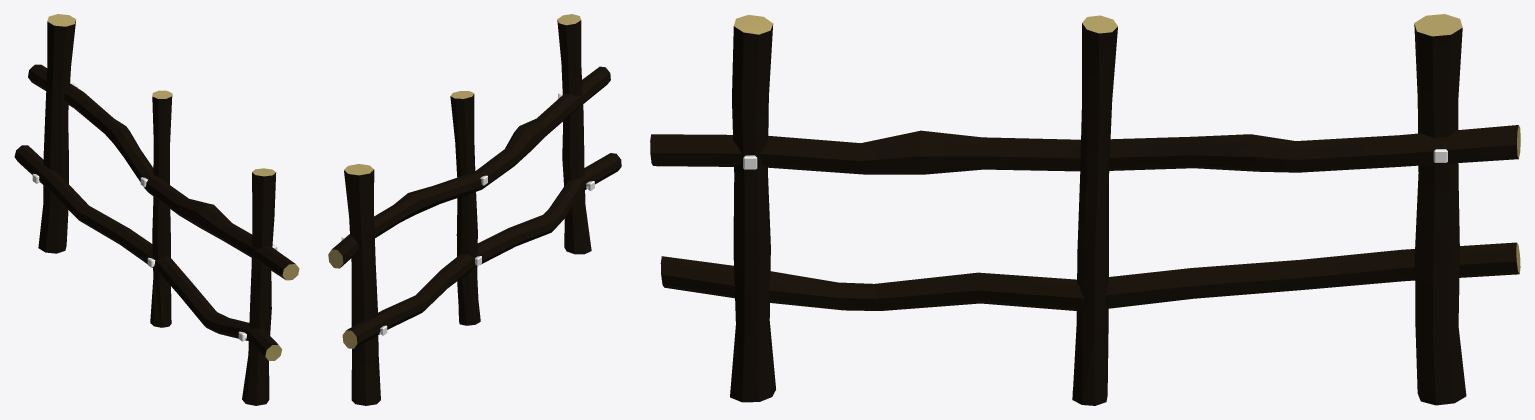
File: fence7.fbx
3 renders of one model, left to right at view 1: azimuth 30°, elevation 25°; view 2: azimuth 150°, elevation 25°; view 3: azimuth 270°, elevation 25°, orthographic. The views are drawn at different scales.
Visible parts, largest first — view 1: fence7_LOD0, nail001; view 2: fence7_LOD0, nail001; view 3: fence7_LOD0.
Boxes of the visible parts, x1=… form: fence7_LOD0: x1=14, y1=14, x2=299, y2=405; nail001: x1=32, y1=83, x2=277, y2=341; fence7_LOD0: x1=328, y1=14, x2=621, y2=405; nail001: x1=341, y1=90, x2=594, y2=335; fence7_LOD0: x1=650, y1=14, x2=1520, y2=405.
Size of what is drawn, in the model's own units: 28.82 by 146 by 303.
